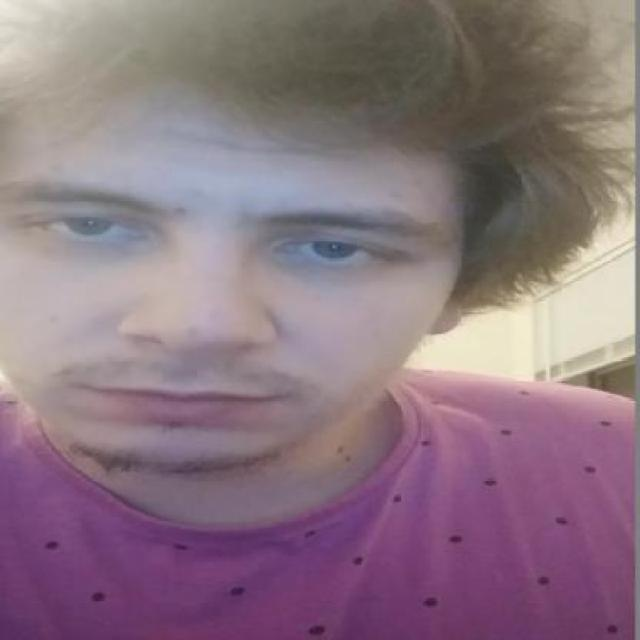awake: (6, 209, 151, 245), (273, 233, 404, 270)
